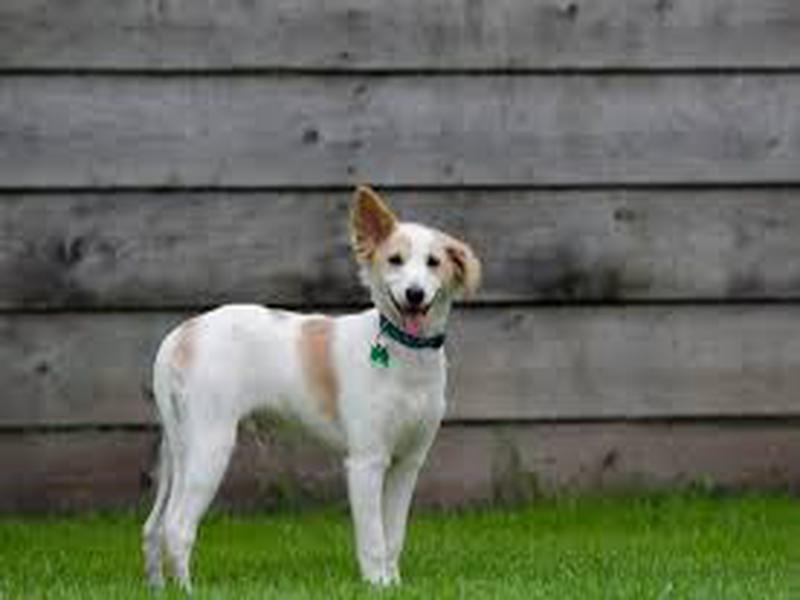dog_stand: (133, 182, 491, 600)
